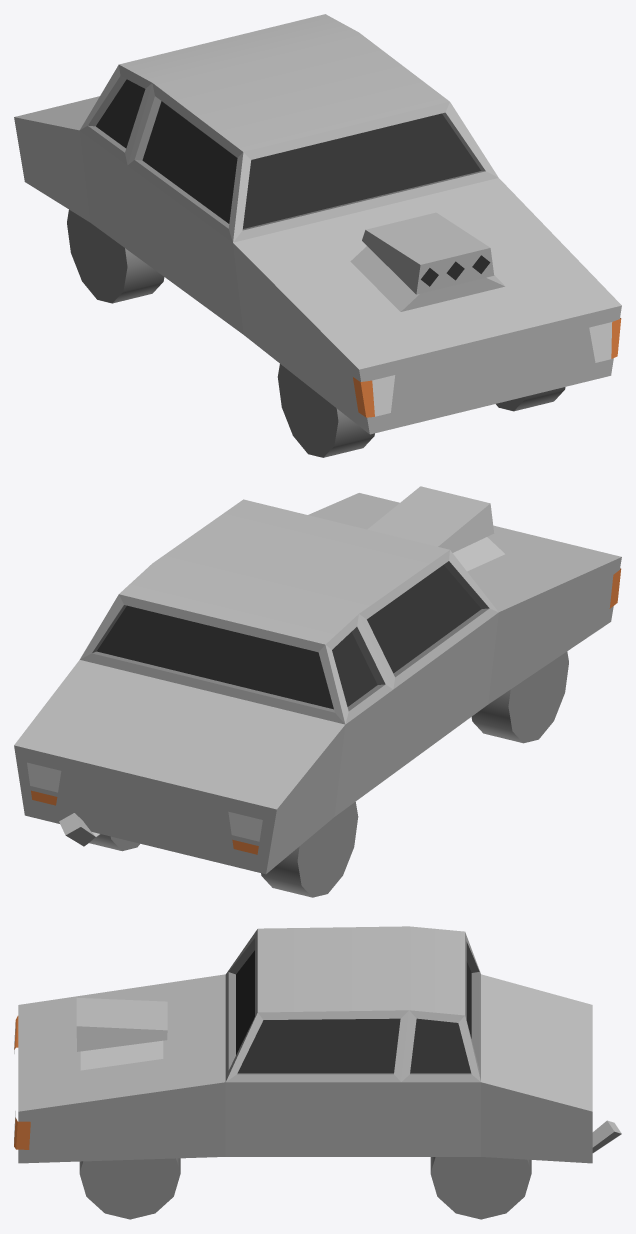
The model's file is musclecar_08.fbx.
The picture shows the model from 3 angles, top to bottom: view 1: azimuth 30°, elevation 25°; view 2: azimuth 150°, elevation 25°; view 3: azimuth 270°, elevation 25°; orthographic projection. The views are drawn at different scales.
Visible parts, largest first — view 1: musclecar_08; view 2: musclecar_08; view 3: musclecar_08.
Boxes of the visible parts, x1=… form: musclecar_08: x1=14, y1=14, x2=621, y2=457; musclecar_08: x1=14, y1=486, x2=621, y2=897; musclecar_08: x1=14, y1=926, x2=621, y2=1219.
Bounding box in the file's own units: 1.6 × 1.41 × 3.81.
